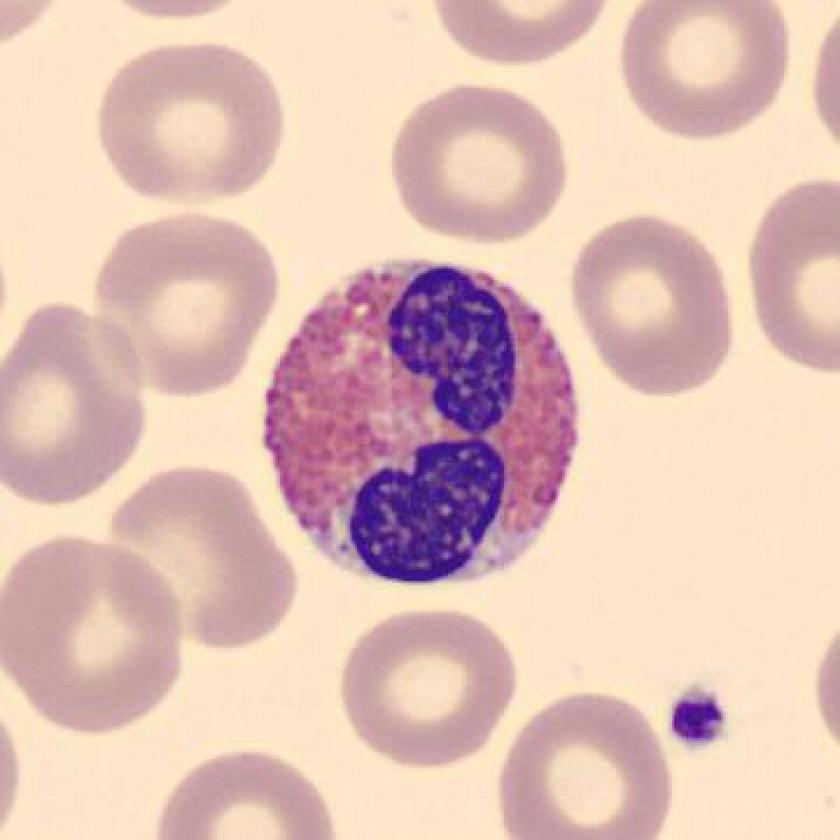eosinophil: (246, 246, 594, 598)
